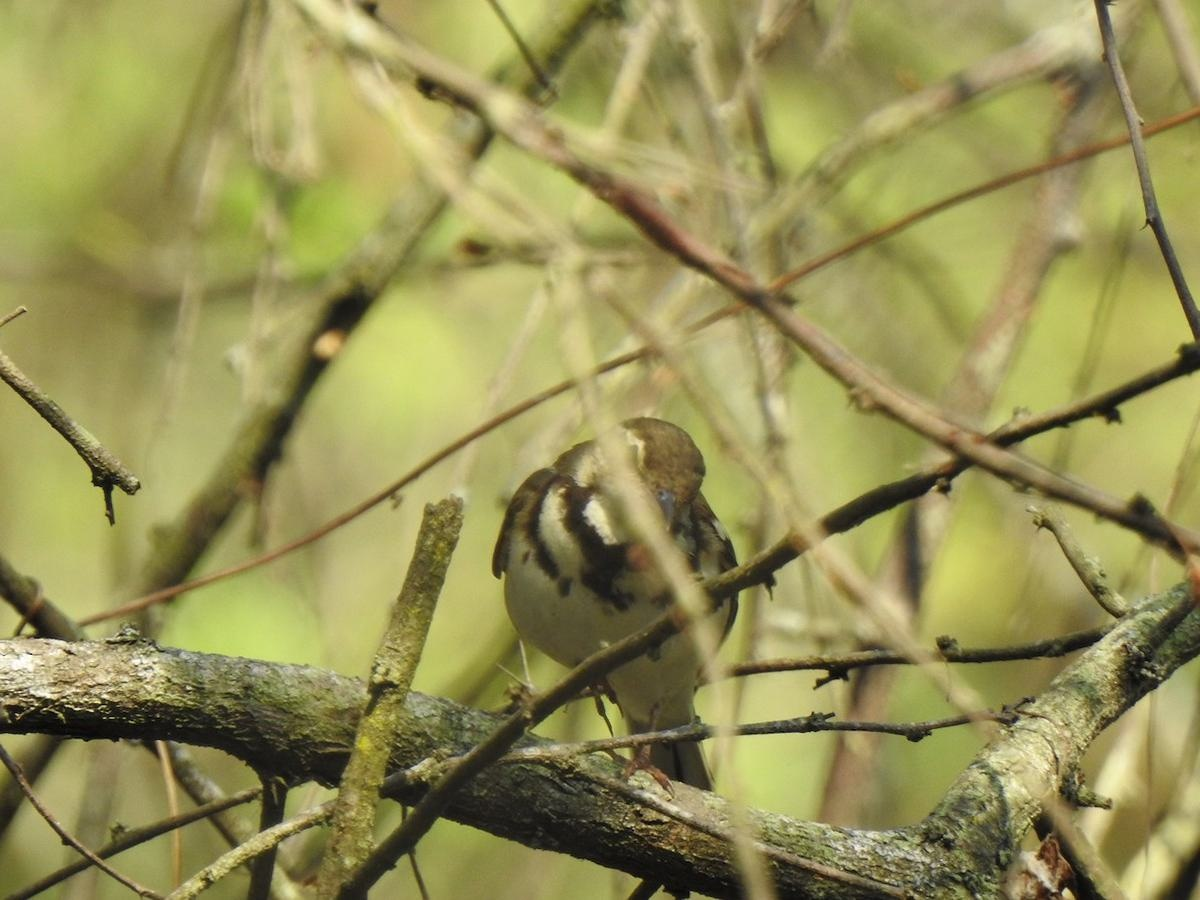wagtail: (478, 394, 809, 845)
